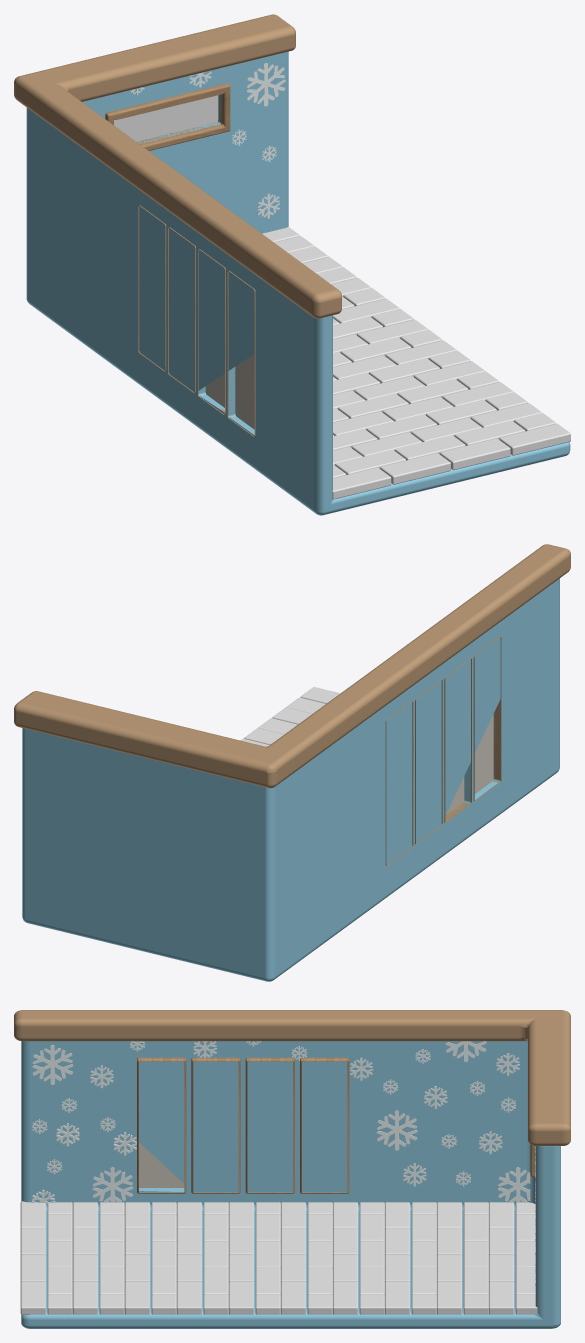
Rendered from Invernadero Invierno.fbx.
The picture shows the model from 3 angles, top to bottom: view 1: azimuth 30°, elevation 25°; view 2: azimuth 150°, elevation 25°; view 3: azimuth 270°, elevation 25°; orthographic projection. The views are drawn at different scales.
Parts seen in each view (by area): view 1: Pared Invierno, Plane, Paredes.003, Ventana 2, Vidrio 2, Ventanas, Papel Invierno, Ventanas.001; view 2: Pared Invierno, Paredes.003, Ventanas, Plane, Ventanas.001; view 3: Pared Invierno, Plane, Paredes.003, Papel Invierno, Ventanas, Ventanas.001.
Part boxes in pixels (left/top/right/bottom): Pared Invierno: left=26, top=51, right=570, bottom=515; Plane: left=262, top=227, right=570, bottom=499; Paredes.003: left=14, top=14, right=341, bottom=318; Ventana 2: left=105, top=83, right=230, bottom=150; Vidrio 2: left=114, top=95, right=218, bottom=141; Ventanas: left=138, top=205, right=255, bottom=436; Papel Invierno: left=130, top=63, right=285, bottom=218; Ventanas.001: left=205, top=354, right=254, bottom=429; Pared Invierno: left=22, top=578, right=559, bottom=981; Paredes.003: left=14, top=544, right=570, bottom=788; Ventanas: left=385, top=637, right=501, bottom=865; Plane: left=241, top=687, right=340, bottom=746; Ventanas.001: left=446, top=714, right=493, bottom=814; Pared Invierno: left=21, top=1041, right=560, bottom=1328; Plane: left=20, top=1201, right=537, bottom=1314; Paredes.003: left=14, top=1010, right=570, bottom=1145; Papel Invierno: left=31, top=1041, right=535, bottom=1285; Ventanas: left=137, top=1057, right=349, bottom=1193; Ventanas.001: left=139, top=1142, right=184, bottom=1187.
Bounding box in the file's own units: 402 × 328 × 802.
9 materials, 4 textured.
